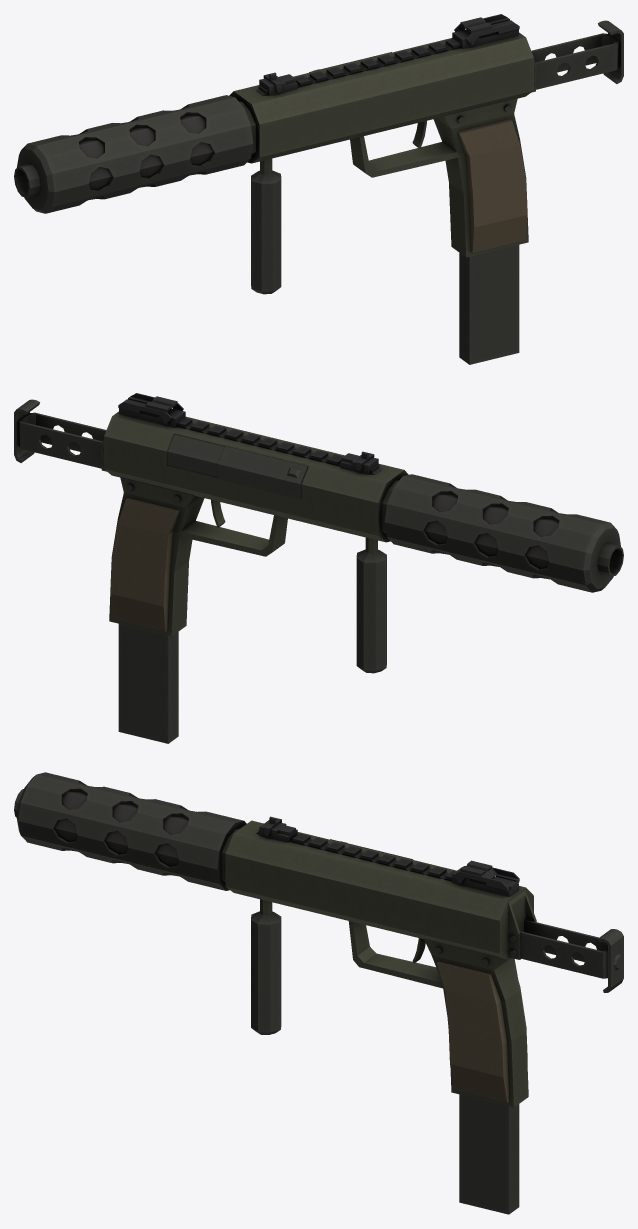
Rendered from Pistol_2.fbx.
The picture shows the model from 3 angles, top to bottom: view 1: azimuth 30°, elevation 25°; view 2: azimuth 150°, elevation 25°; view 3: azimuth 330°, elevation 25°; orthographic projection.
Parts seen in each view (by area): view 1: pistol_2; view 2: pistol_2; view 3: pistol_2.
Part boxes in pixels (bbox=[...]): pistol_2: bbox=[14, 14, 623, 364]; pistol_2: bbox=[14, 393, 623, 743]; pistol_2: bbox=[14, 772, 623, 1214].
Size of the model in its own units: 2105 by 1126 by 221.
